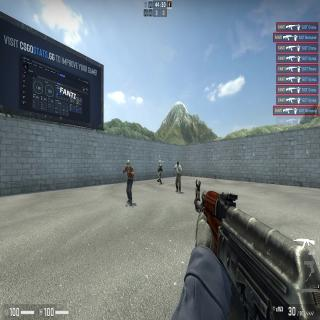T-Body: (124, 160, 134, 206), (174, 160, 182, 192)
T-Head: (126, 160, 130, 168), (177, 162, 179, 166)
